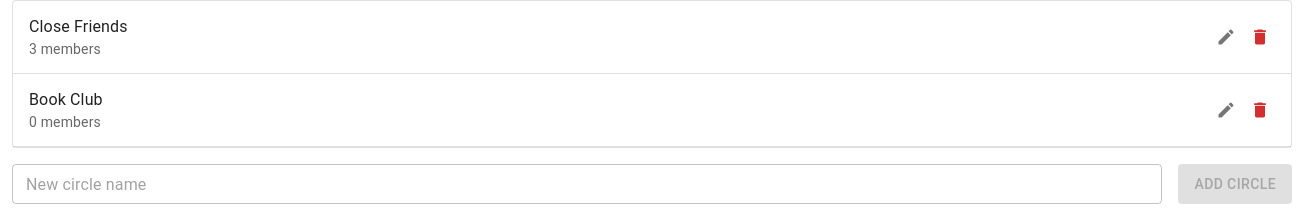
clicking edit switches the row into an editable text field prefilled with the name
Click the button named "Edit" in the row of "Close Friends". click: {"x": 1226, "y": 37}
box: [1211,22,1241,52]
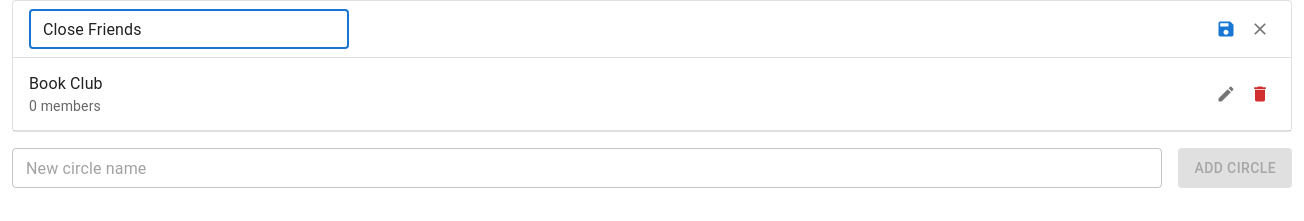
Expected: the field showing "Close Friends" is shown, [29,9,349,49]
